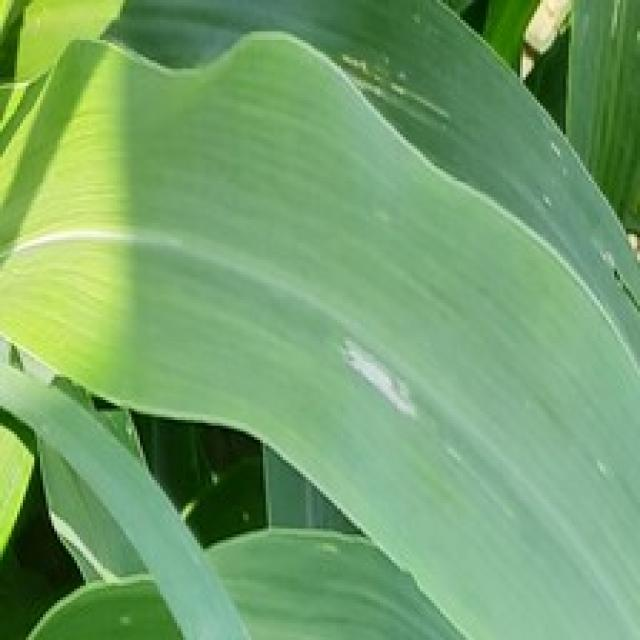Corn: (0, 0, 637, 637), (0, 523, 637, 637)
